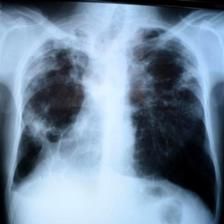tuberculosis: (6, 19, 220, 224)
